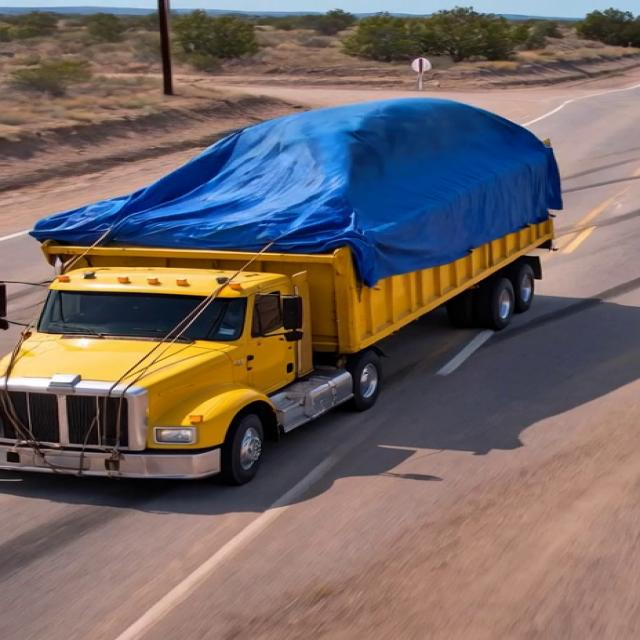trailer: (34, 138, 555, 247)
truck: (8, 107, 578, 490)
